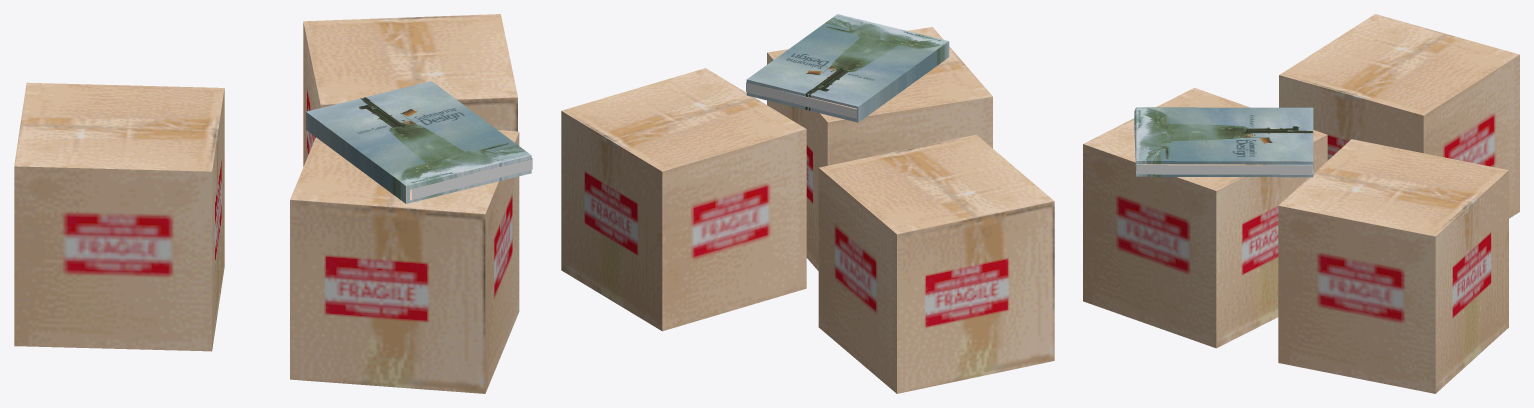
File: floor_boxes.glb
The picture shows the model from 3 angles, left to right: view 1: azimuth 30°, elevation 25°; view 2: azimuth 150°, elevation 25°; view 3: azimuth 270°, elevation 25°; orthographic projection. The views are drawn at different scales.
Parts seen in each view (by area): view 1: The Box.001, The Box.002, The Box, Clipboard.005; view 2: The Box, The Box.001, The Box.002, Clipboard.005; view 3: The Box, The Box.002, The Box.001, Clipboard.005.
Boxes of the visible parts, x1,y1,x2,y2 form: The Box.001: (14,82,224,351); The Box.002: (290,130,519,393); The Box: (303,14,517,166); Clipboard.005: (306,81,532,203); The Box: (561,68,806,331); The Box.001: (818,134,1054,393); The Box.002: (767,27,992,270); Clipboard.005: (746,14,949,122); The Box: (1278,139,1508,393); The Box.002: (1083,88,1327,348); The Box.001: (1279,14,1519,218); Clipboard.005: (1134,107,1313,177).
Bounding box in the file's own units: 0.7282 × 0.264 × 0.6036.
3 materials, 2 textured.
